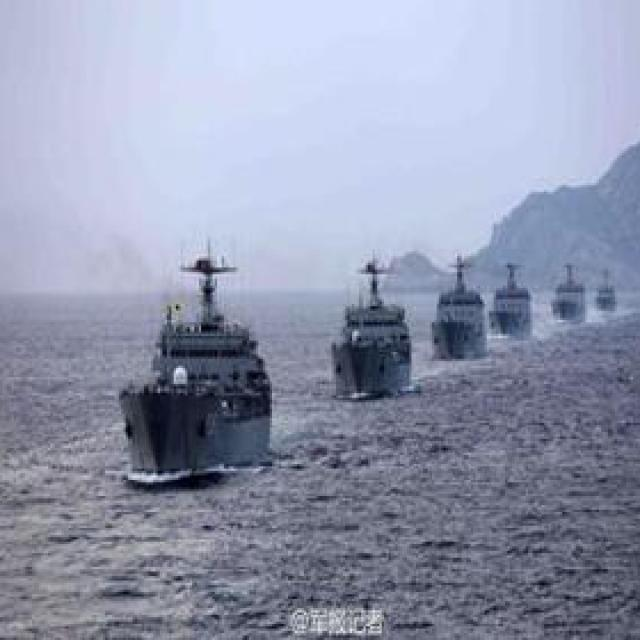navalvessels: (118, 240, 274, 476), (322, 247, 412, 392), (428, 249, 488, 363), (490, 255, 532, 343), (548, 256, 587, 324), (594, 267, 618, 312)
